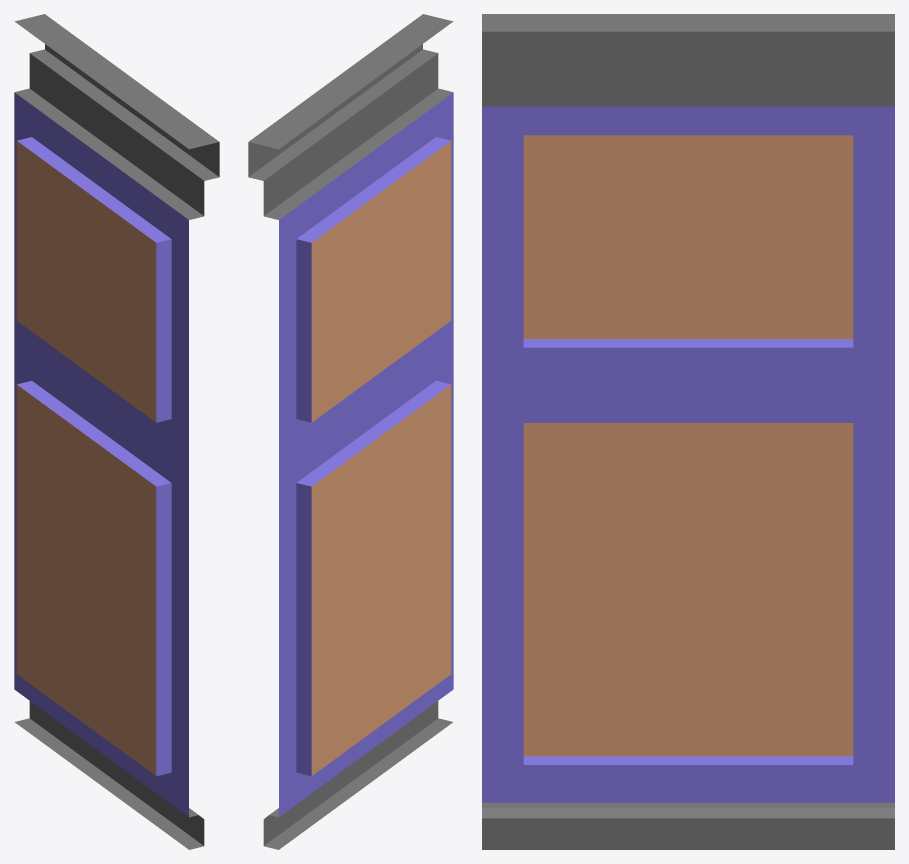
Rendered from Straight_wall.fbx.
The picture shows the model from 3 angles, left to right: view 1: azimuth 30°, elevation 25°; view 2: azimuth 150°, elevation 25°; view 3: azimuth 270°, elevation 25°; orthographic projection. The views are drawn at different scales.
Parts seen in each view (by area): view 1: Object003; view 2: Object003; view 3: Object003.
Boxes of the visible parts, left/top/right/bottom form: Object003: left=14, top=14, right=219, bottom=849; Object003: left=248, top=14, right=453, bottom=849; Object003: left=482, top=14, right=894, bottom=849.
Bounding box in the file's own units: 0.15 × 2.2 × 0.9935.
